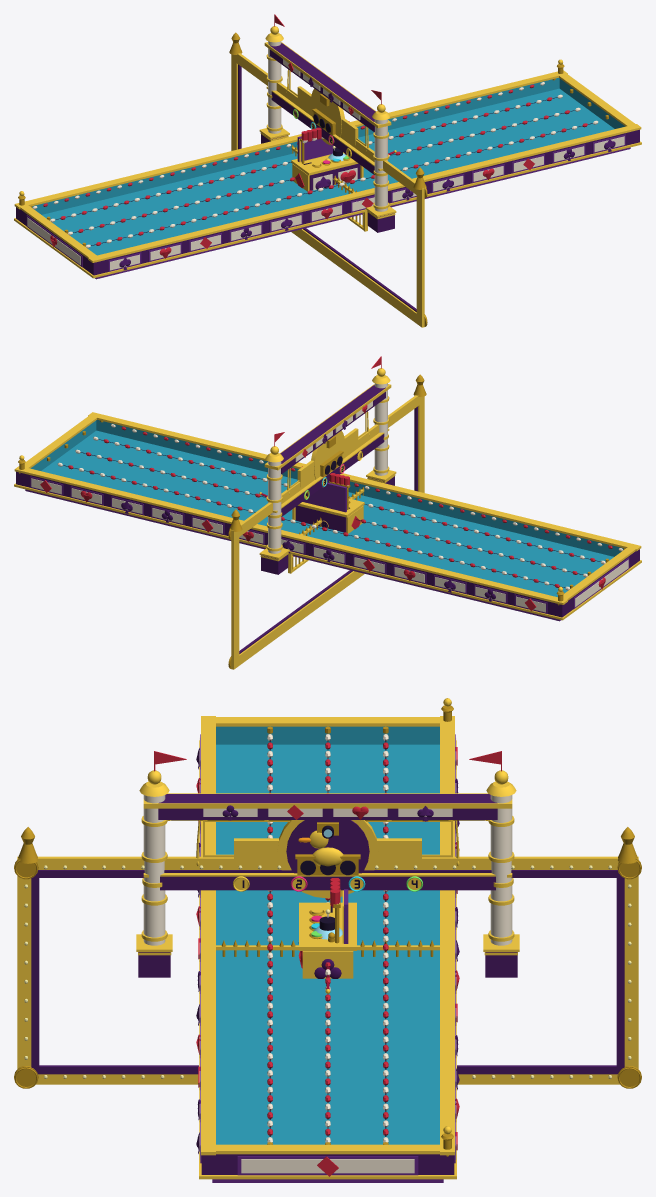
The model's file is duck.glb.
The picture shows the model from 3 angles, top to bottom: view 1: azimuth 30°, elevation 25°; view 2: azimuth 150°, elevation 25°; view 3: azimuth 270°, elevation 25°; orthographic projection. The views are drawn at different scales.
Parts seen in each view (by area): view 1: tFloor, tGold, tLiner, bFrame, tCream, tBody, tInset, fGold, fShaft, tFloatC, tFloatR, fBeam (+11 smaller); view 2: tFloor, tGold, tLiner, bFrame, tCream, tBody, tInset, fGold, fShaft, tFloatC, tFloatR, fBeam (+12 smaller); view 3: tFloor, tGold, bFrame, bBezel, fGold, fBeam, fShaft, gHeader, tLiner, bPediment, tCream, kGold (+16 smaller).
Part boxes in pixels (x1,y1,x2,y2): tFloor: [42, 88, 614, 255]; tGold: [14, 70, 641, 278]; tLiner: [32, 77, 625, 214]; bFrame: [231, 53, 424, 327]; tCream: [27, 136, 624, 270]; tBody: [16, 129, 639, 275]; tInset: [26, 134, 625, 271]; fGold: [259, 26, 396, 217]; fShaft: [268, 41, 387, 211]; tFloatC: [32, 82, 598, 248]; tFloatR: [43, 84, 587, 245]; fBeam: [270, 43, 375, 132]; tFloor: [41, 430, 613, 597]; tGold: [14, 412, 641, 620]; tLiner: [30, 420, 623, 556]; bFrame: [231, 395, 424, 669]; tCream: [31, 478, 628, 612]; tBody: [16, 471, 639, 617]; tInset: [30, 476, 629, 613]; fGold: [259, 368, 396, 559]; fShaft: [268, 383, 387, 553]; tFloatC: [57, 424, 623, 590]; tFloatR: [68, 426, 612, 587]; fBeam: [280, 385, 385, 474]; tFloor: [216, 744, 439, 1144]; tGold: [199, 716, 456, 1179]; bFrame: [17, 856, 638, 1084]; bBezel: [31, 870, 624, 1074]; fGold: [136, 770, 519, 951]; fBeam: [158, 794, 497, 819]; fShaft: [143, 795, 512, 945]; gHeader: [160, 876, 495, 890]; tLiner: [216, 726, 439, 744]; bPediment: [234, 820, 421, 898]; tCream: [199, 738, 456, 1173]; kGold: [299, 902, 356, 978].
Bounding box in the file's own units: 28.63 × 10.24 × 17.38.
